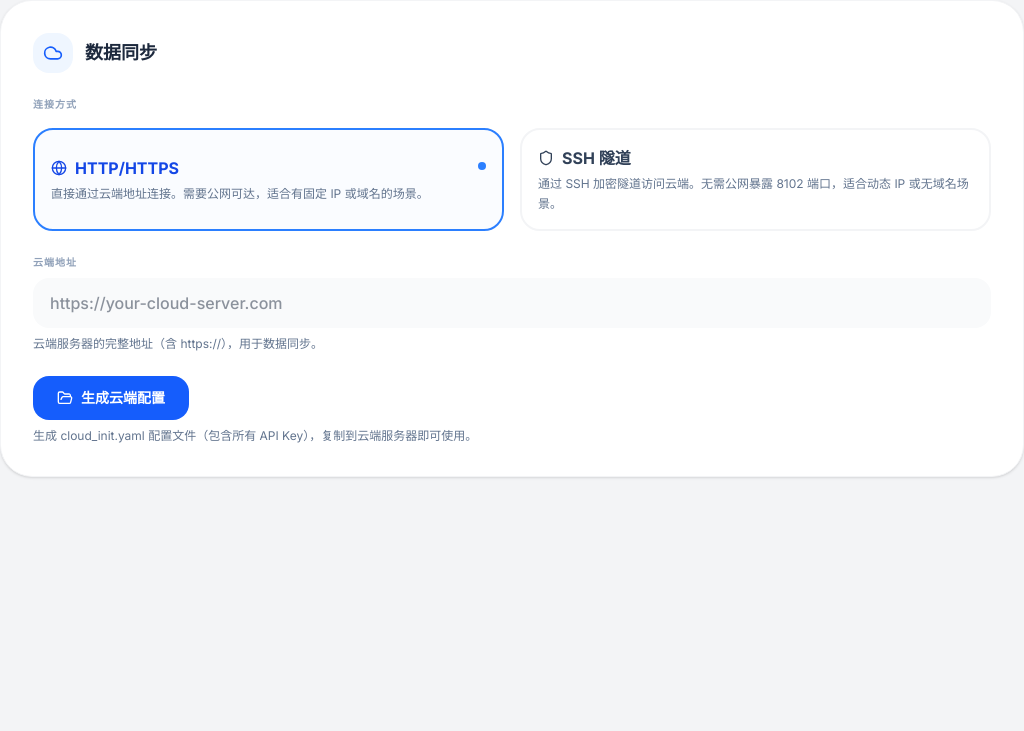
it: SyncConfigSection › Seam 6: SSH 选项卡 UI 元素渲染 › should default SSH port to 22
The image size is (1024, 731).
Step 1. Click the button "SSH 隧道 通过 SSH 加密隧道访问云端。无需公网暴露 8102 端口，适合动态 IP 或无域名场景。" → click(756, 180), box [520,128,991,231]
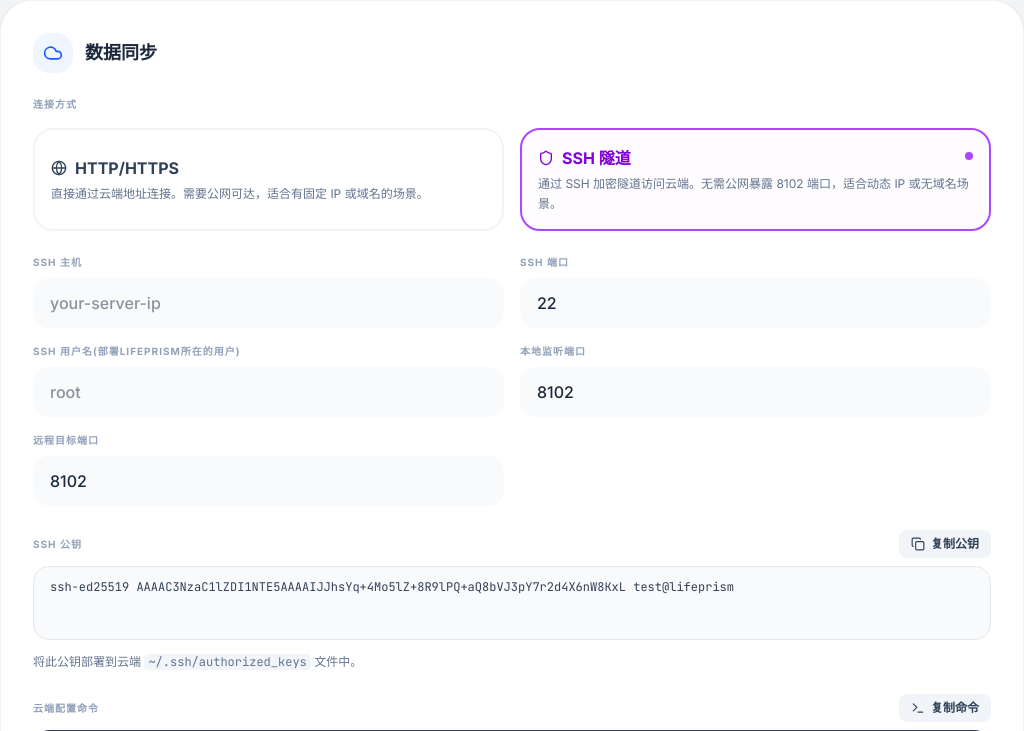
expect the number field named "SSH 端口" holds "22": met, box [520,278,991,328]
